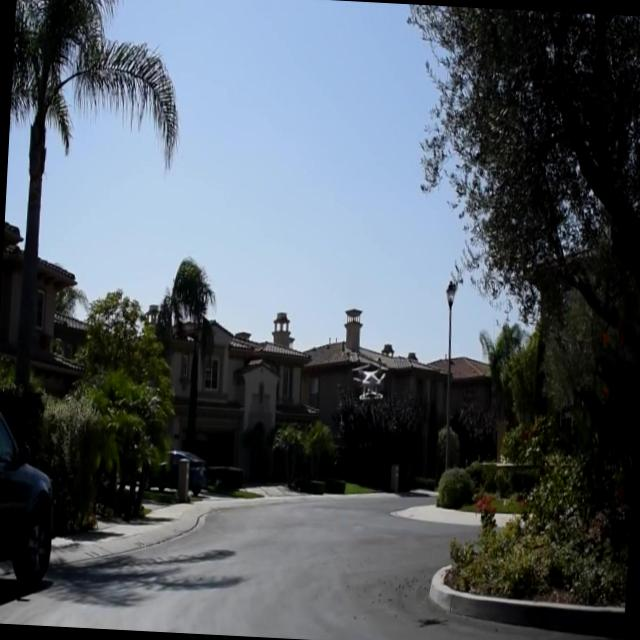drone: (350, 359, 388, 405)
